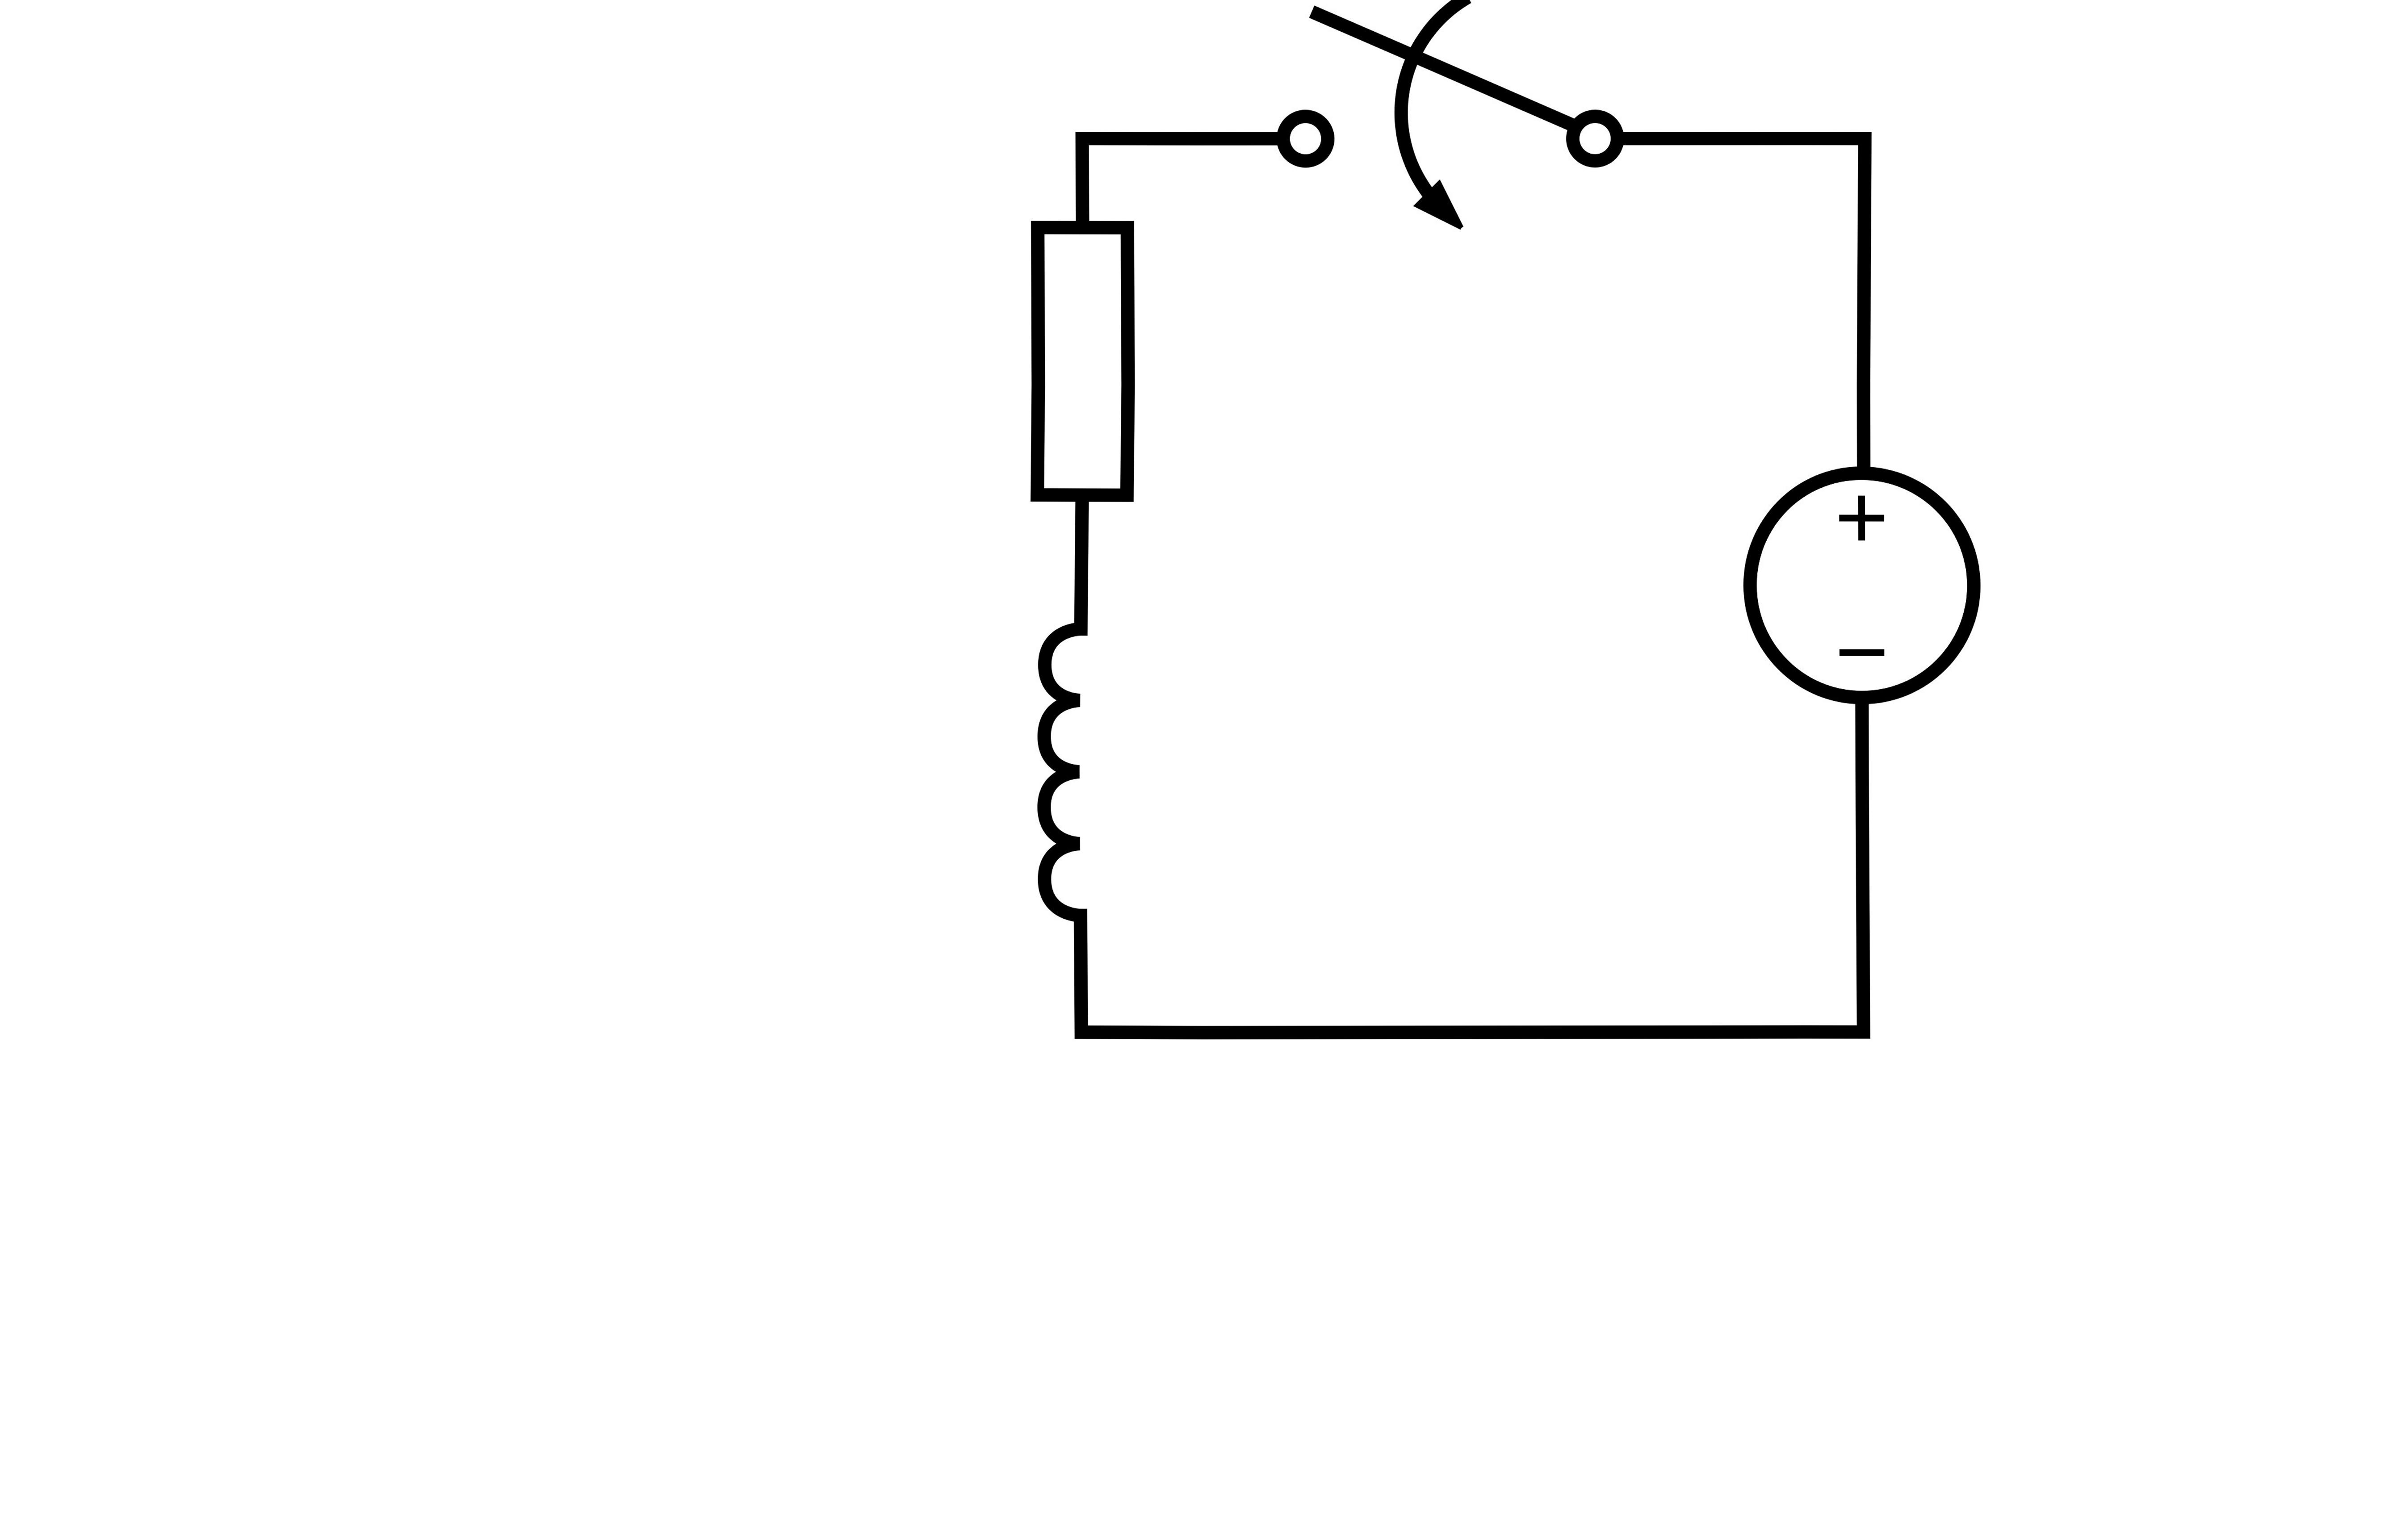Battery: (1672, 413, 2037, 743)
